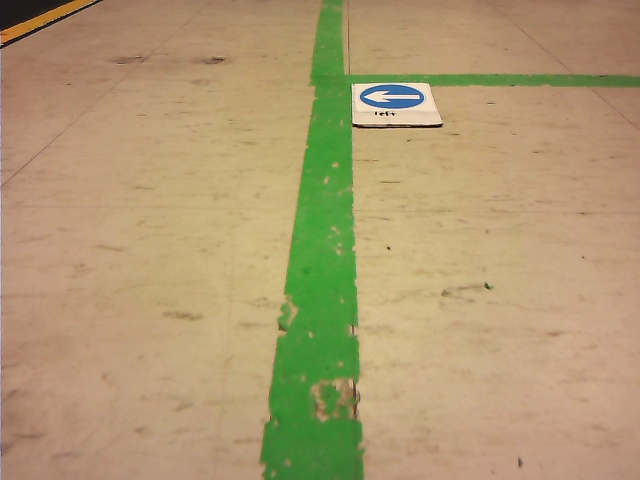TURN LEFT: (359, 84, 424, 108)
